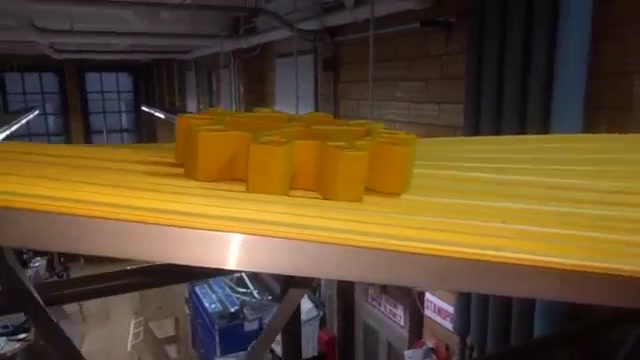gear: (170, 91, 424, 214)
